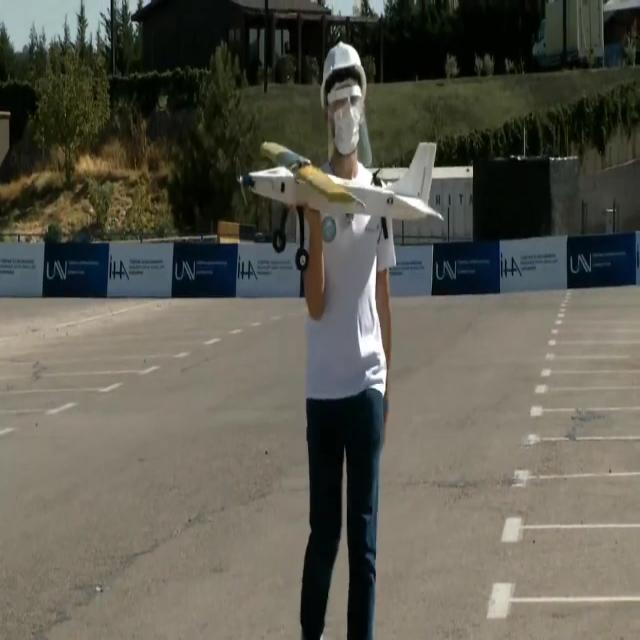iha: (232, 141, 445, 269)
